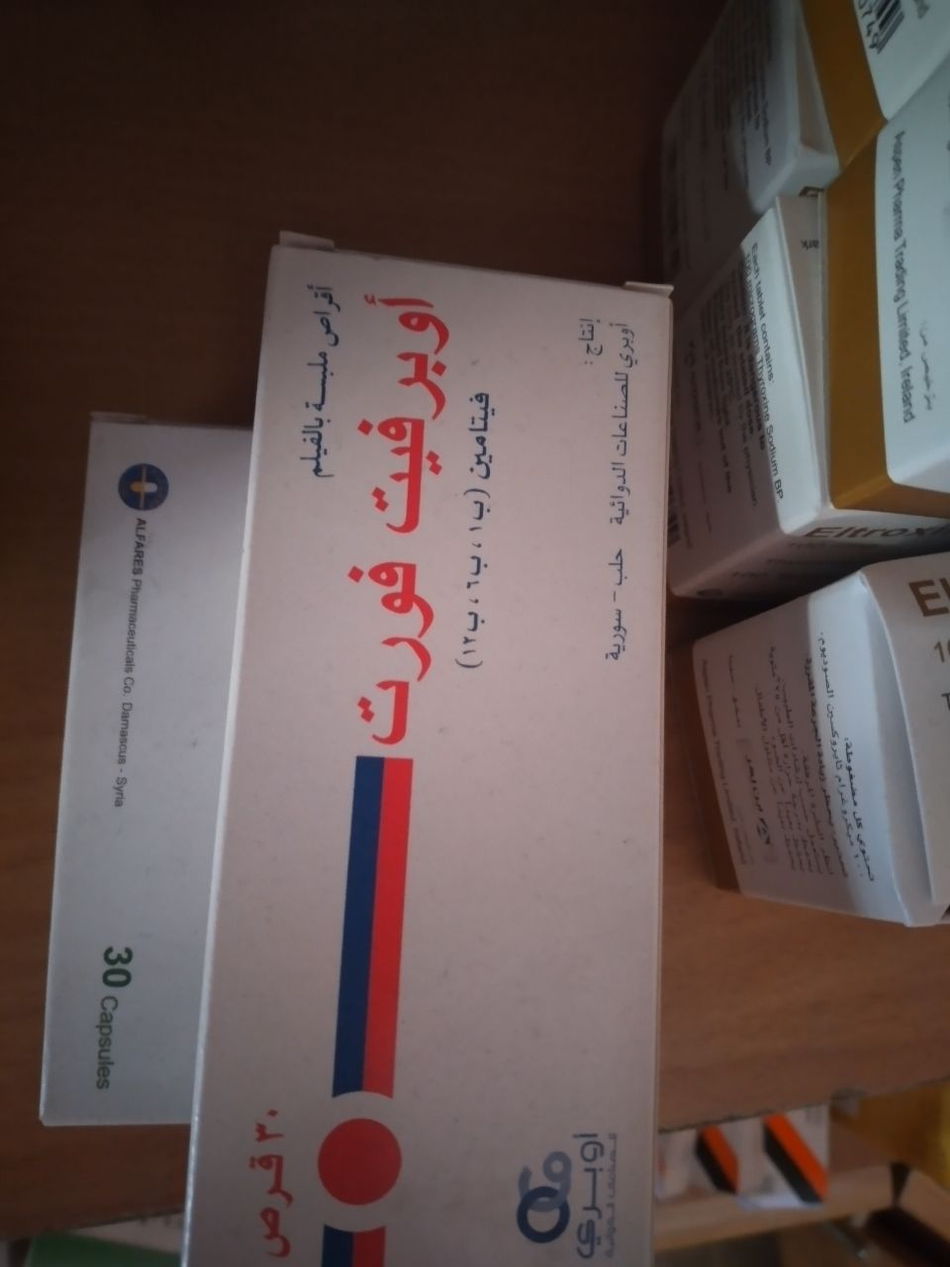Medicine: (172, 211, 683, 1267), (43, 389, 238, 1178), (686, 554, 950, 993), (815, 49, 950, 548), (785, 0, 950, 165)
